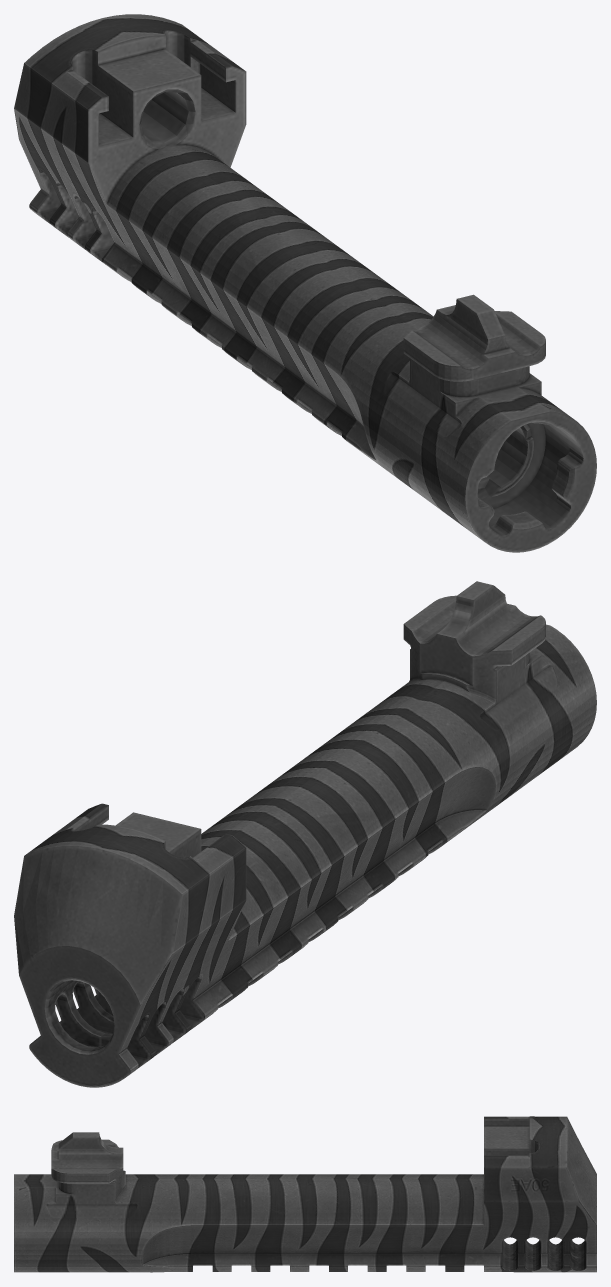
The picture shows the model from 3 angles, top to bottom: view 1: azimuth 30°, elevation 25°; view 2: azimuth 150°, elevation 25°; view 3: azimuth 270°, elevation 25°; orthographic projection. The views are drawn at different scales.
Visible parts, largest first — view 1: TW_669fa48fa0bab4e8510d952a_PZ_Import; view 2: TW_669fa48fa0bab4e8510d952a_PZ_Import; view 3: TW_669fa48fa0bab4e8510d952a_PZ_Import.
Boxes of the visible parts, left/top/right/bottom form: TW_669fa48fa0bab4e8510d952a_PZ_Import: left=14, top=14, right=596, bottom=552; TW_669fa48fa0bab4e8510d952a_PZ_Import: left=14, top=581, right=596, bottom=1087; TW_669fa48fa0bab4e8510d952a_PZ_Import: left=14, top=1116, right=596, bottom=1272.
Size of the model in its own units: 0.0191 by 0.0943 by 0.0253.
1 material, 1 textured.
